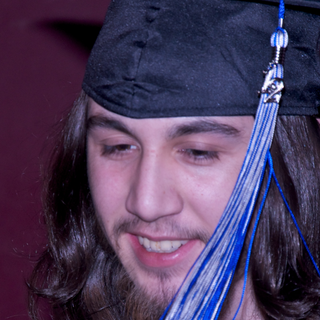eye: (169, 140, 228, 168), (97, 135, 141, 160)
